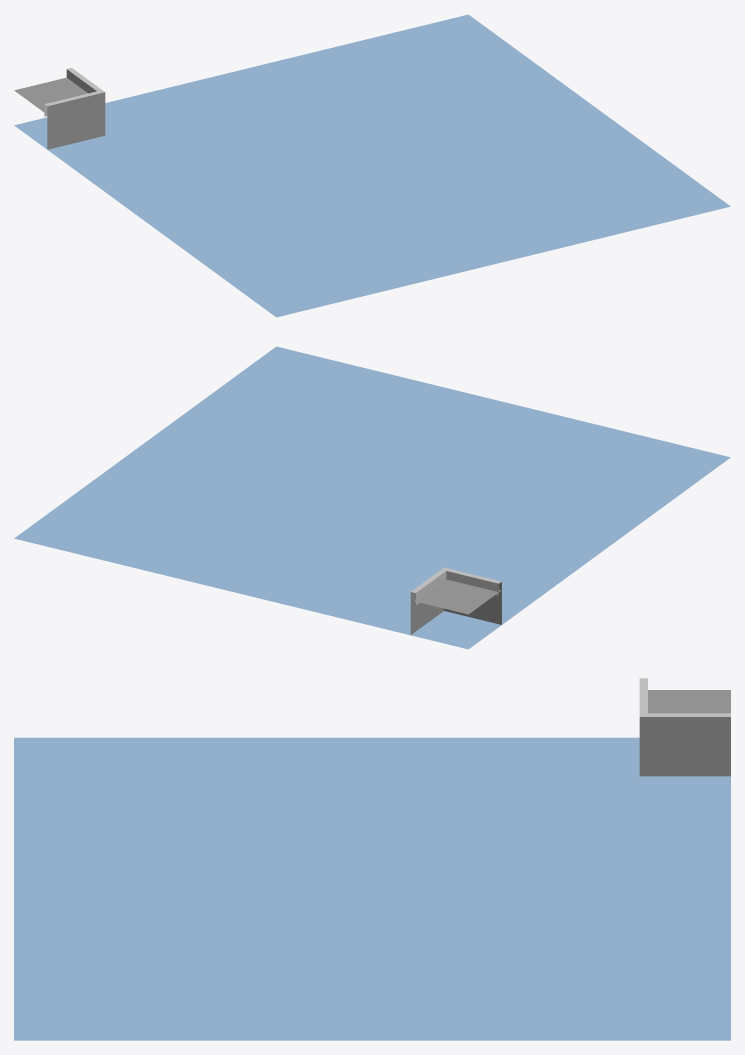
Rendered from road_tile_river_2x2_008.fbx.
The picture shows the model from 3 angles, top to bottom: view 1: azimuth 30°, elevation 25°; view 2: azimuth 150°, elevation 25°; view 3: azimuth 270°, elevation 25°; orthographic projection. The views are drawn at different scales.
Visible parts, largest first — view 1: road_tile_river_2x2_008; view 2: road_tile_river_2x2_008; view 3: road_tile_river_2x2_008.
Part boxes in pixels (box(x1,y1,x2,y2)): road_tile_river_2x2_008: box(14, 14, 730, 317); road_tile_river_2x2_008: box(14, 346, 730, 649); road_tile_river_2x2_008: box(14, 678, 730, 1040).
Bounding box in the file's own units: 1600 × 146 × 1600.
